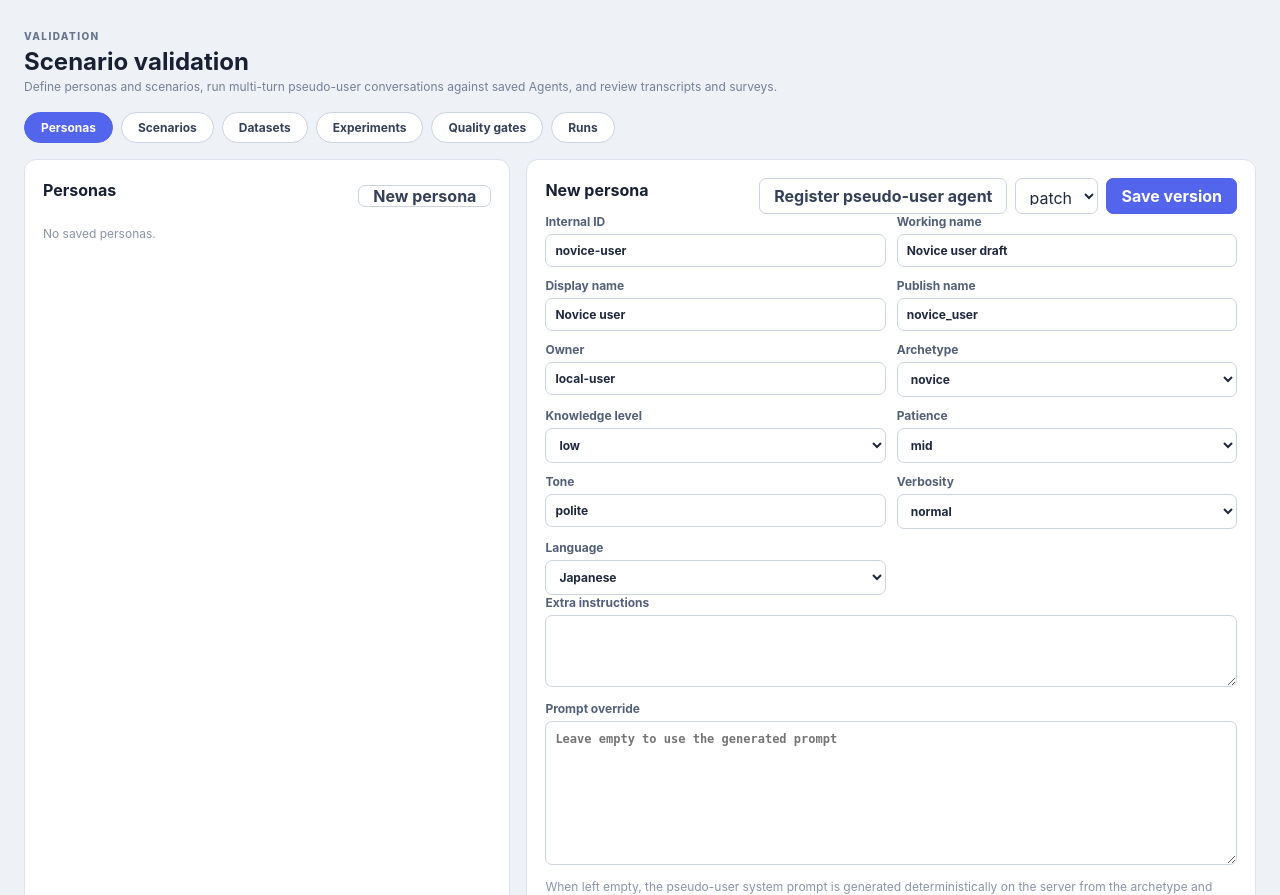
Test: ValidationPage › Experimentを作成して進捗・CaseResult・Run traceを表示する
Click the tab "Experiments". click: (370, 128)
box: 316,112 -> 424,143
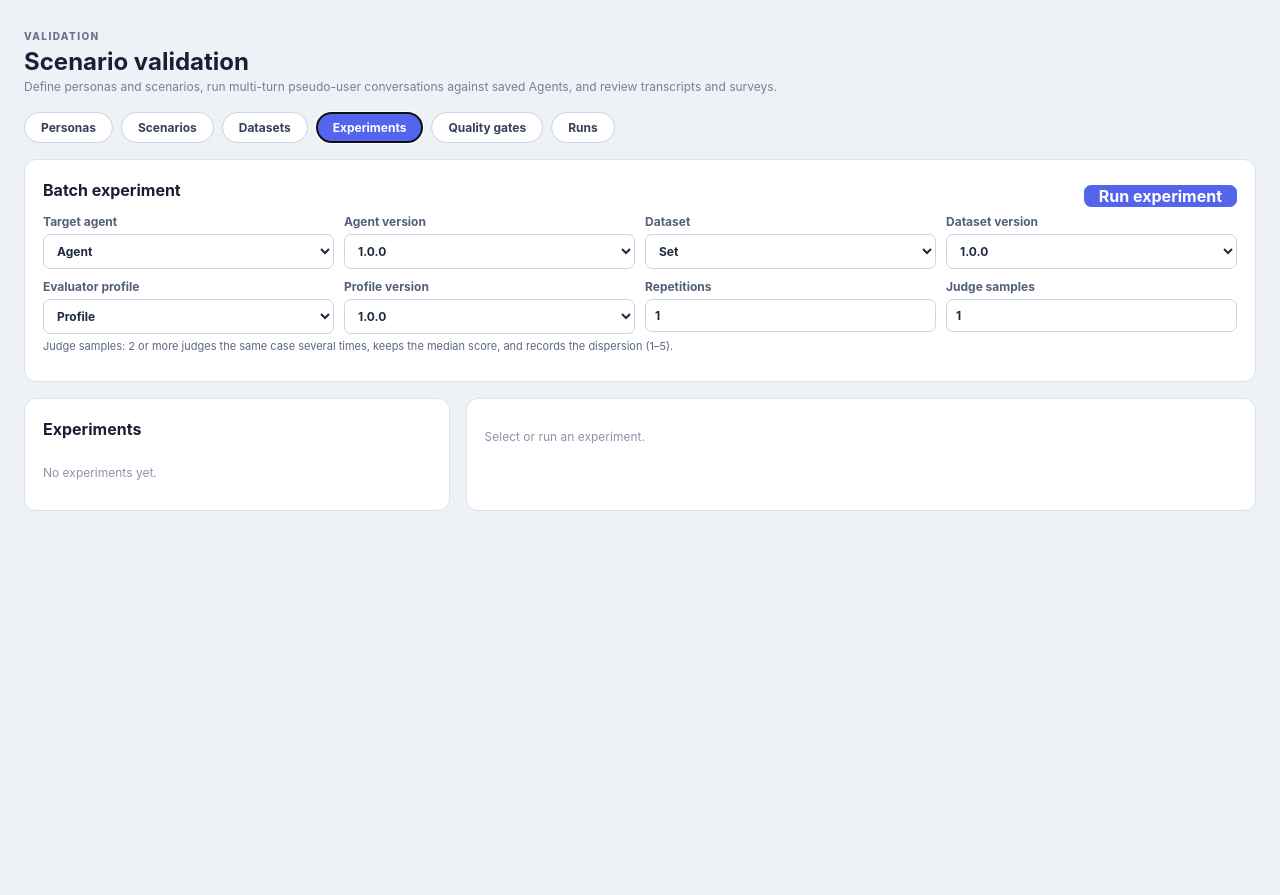
Now the text "No experiments yet." is shown, box 43,464 -> 157,480
Replace the text in the number field named "Experiment repetitions" with "2". click: (790, 316)
box: 645,299 -> 936,332
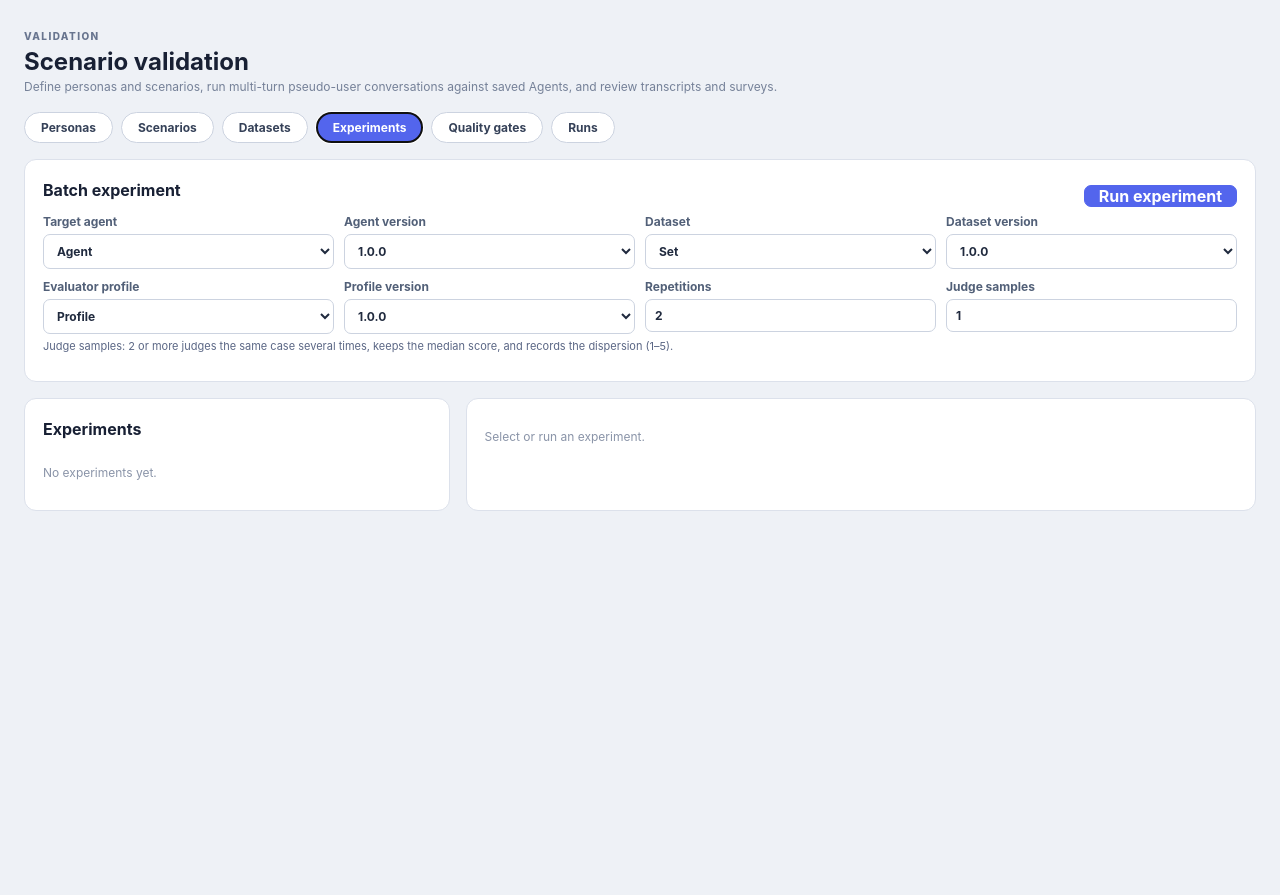
Click the button "Run experiment". click: (1160, 196)
box: 1084,185 -> 1237,207
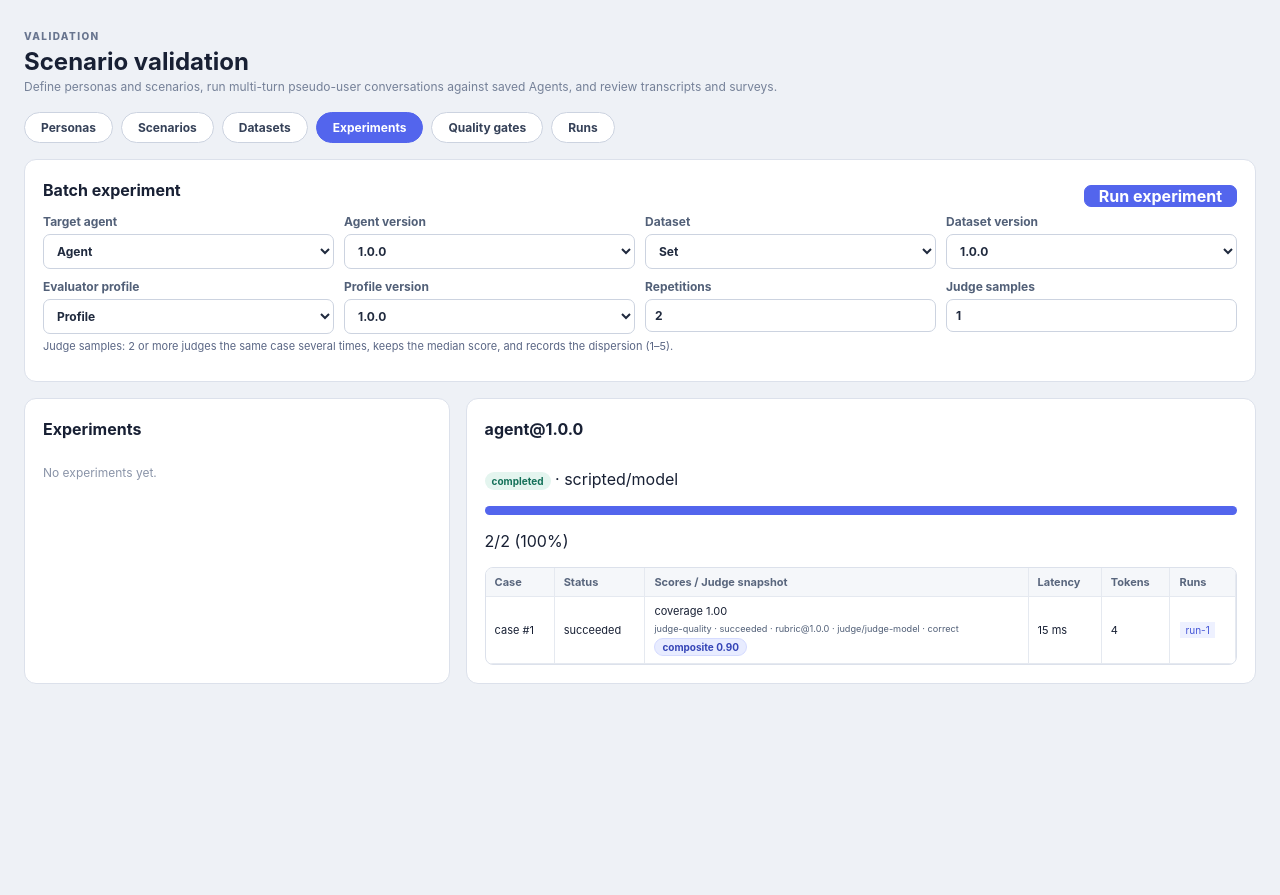
Now the text "coverage 1.00" is shown, box 654,604 -> 727,618
Now the text "judge-quality · succeeded · rubric@1.0.0 · judge/judge-model · correct" is shown, box 654,622 -> 959,634
Click the button "run-1". click: (1198, 630)
box: 1180,622 -> 1215,638
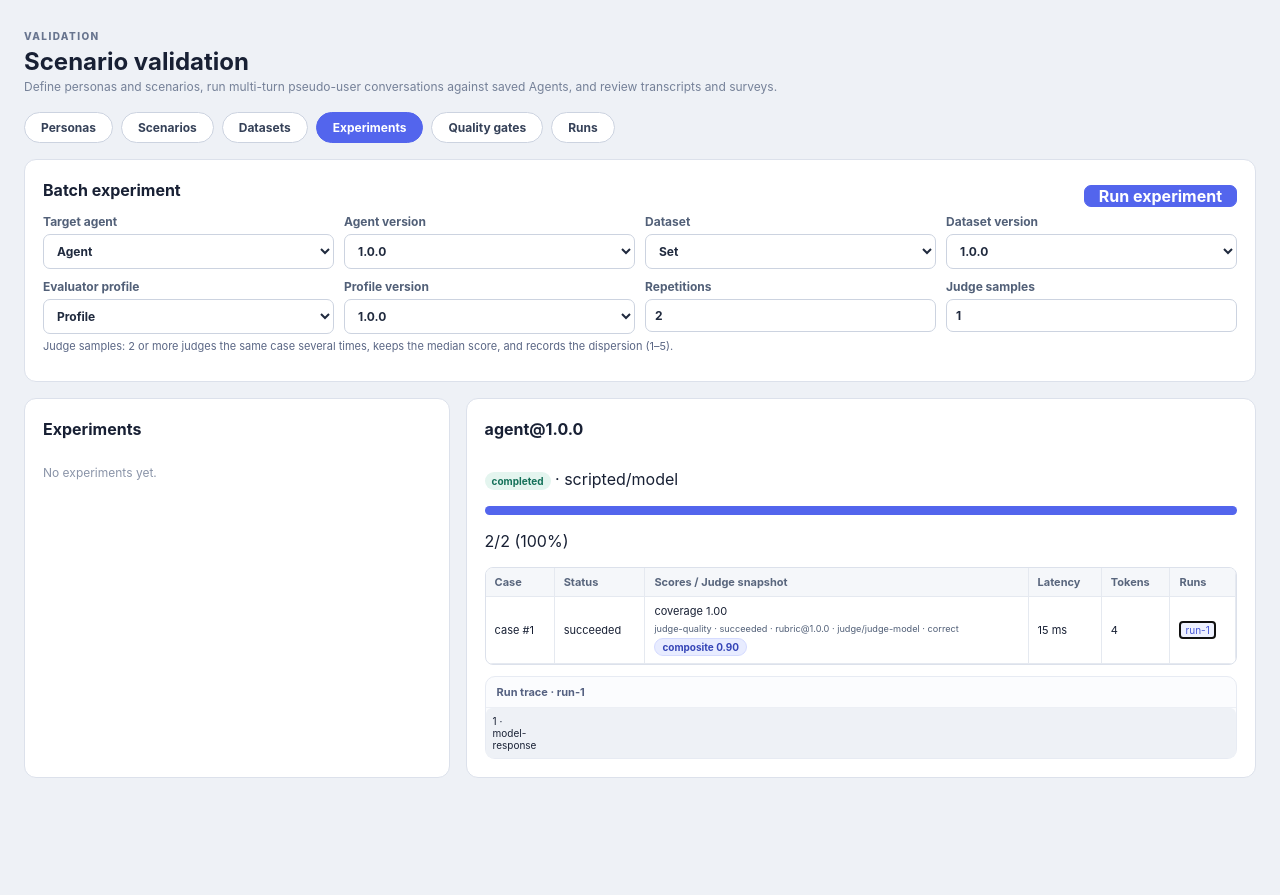
Now the text "completed · scripted/model" is shown, box 485,468 -> 678,490
Now the text "1 · model-response" is shown, box 486,708 -> 1236,758
